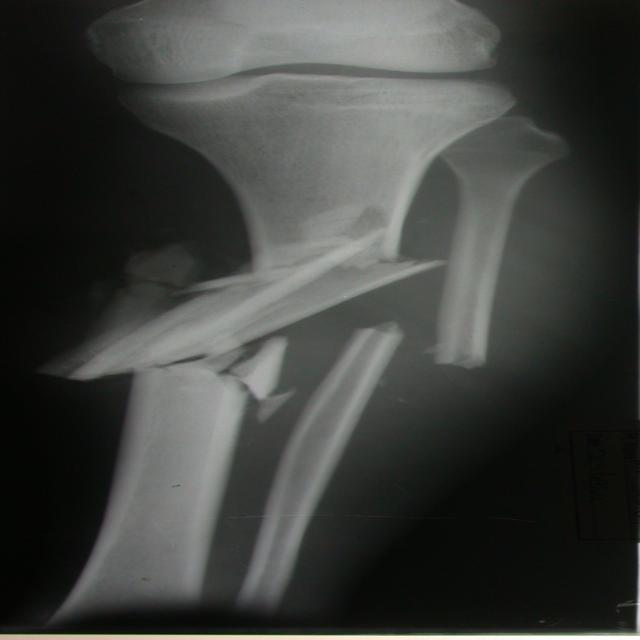Broken: (59, 242, 441, 381), (52, 357, 236, 617), (225, 324, 386, 603)
